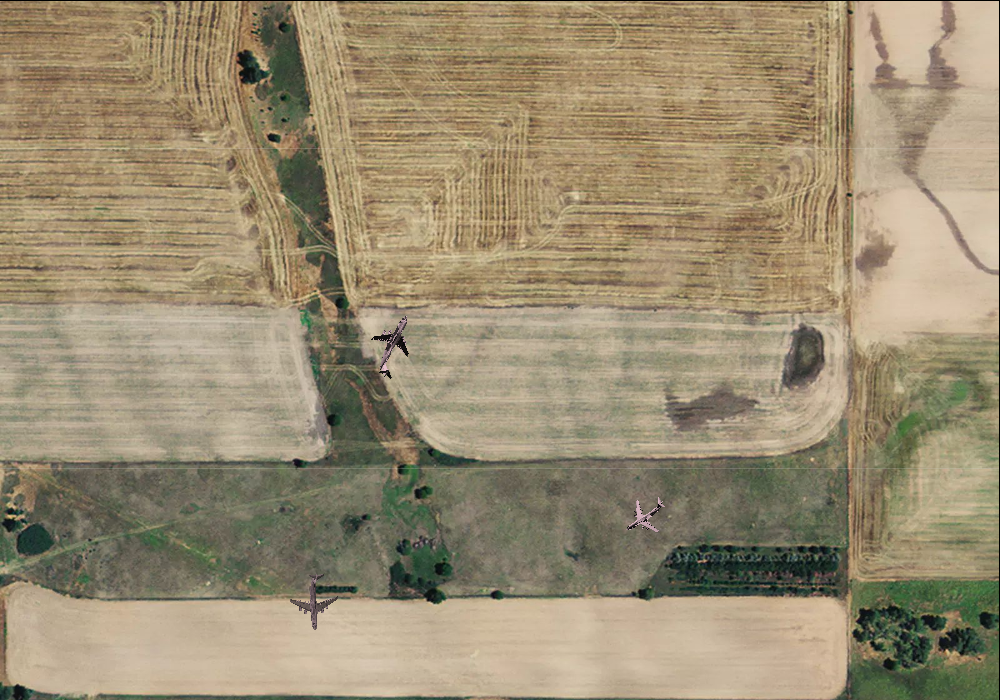plane: (355, 305, 433, 387), (613, 485, 676, 546), (286, 571, 343, 632)
